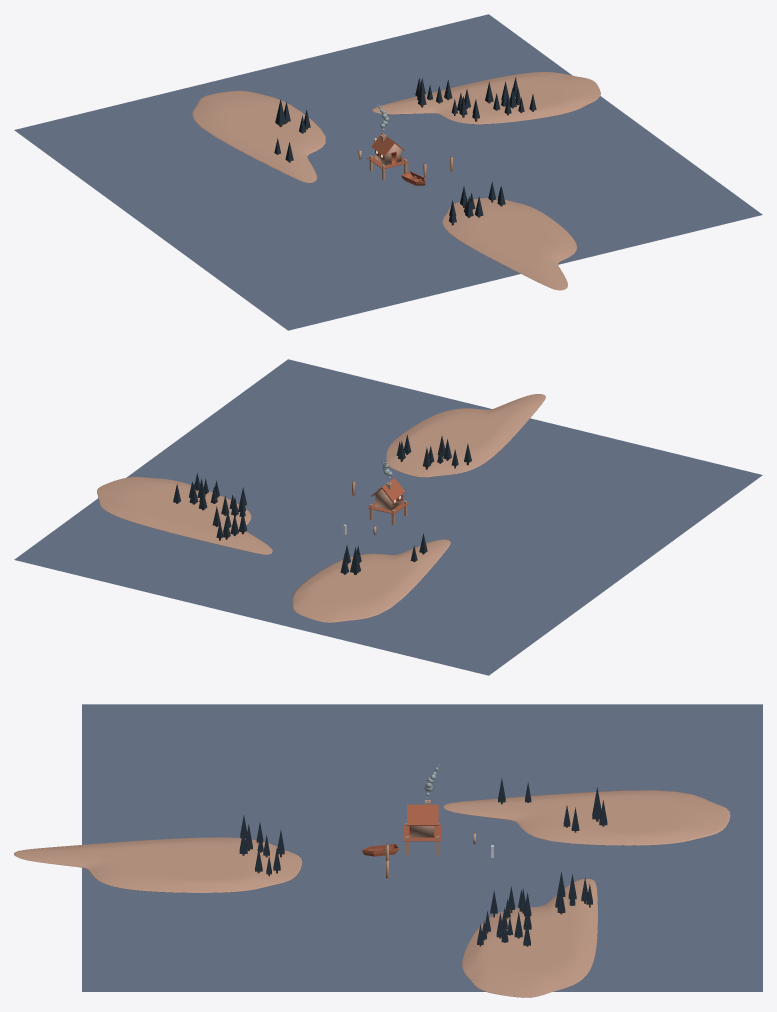
File: cabin_water4.glb
The picture shows the model from 3 angles, top to bottom: view 1: azimuth 30°, elevation 25°; view 2: azimuth 150°, elevation 25°; view 3: azimuth 270°, elevation 25°; orthographic projection. The views are drawn at different scales.
Visible parts, largest first — view 1: water, land south, land nw, land ne; view 2: water, land nw, land south, land ne; view 3: water, land south, land nw, land ne, roof.
Part boxes in pixels (<box>): water: <box>14,14,762,330</box>; land south: <box>442,198,577,290</box>; land nw: <box>192,90,325,182</box>; land ne: <box>372,72,600,124</box>; water: <box>14,359,762,675</box>; land nw: <box>292,539,450,622</box>; land south: <box>386,394,545,477</box>; land ne: <box>97,477,272,554</box>; water: <box>82,704,762,991</box>; land south: <box>14,837,302,892</box>; land nw: <box>443,790,730,845</box>; land ne: <box>462,878,597,997</box>; roof: <box>407,804,438,825</box>.
Size of the model in its own units: 109 by 28.7 by 117.
